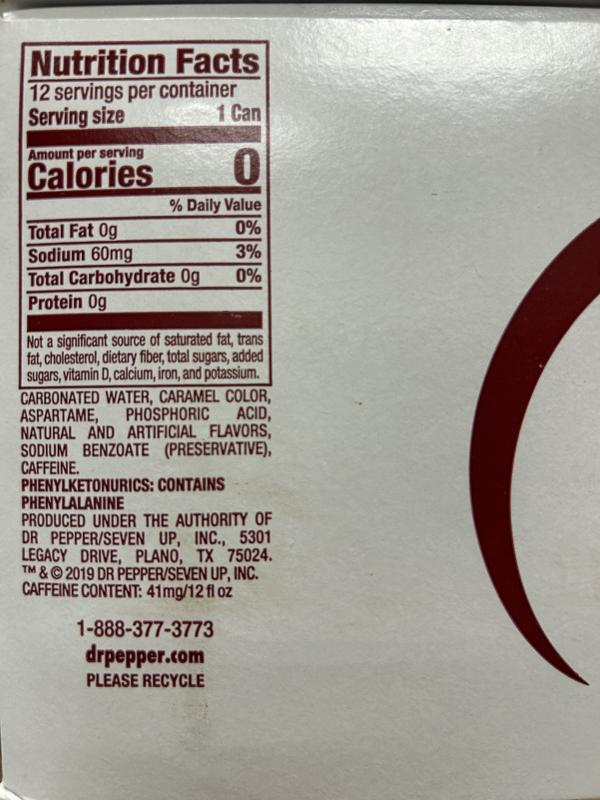ingredients: (19, 388, 274, 477)
